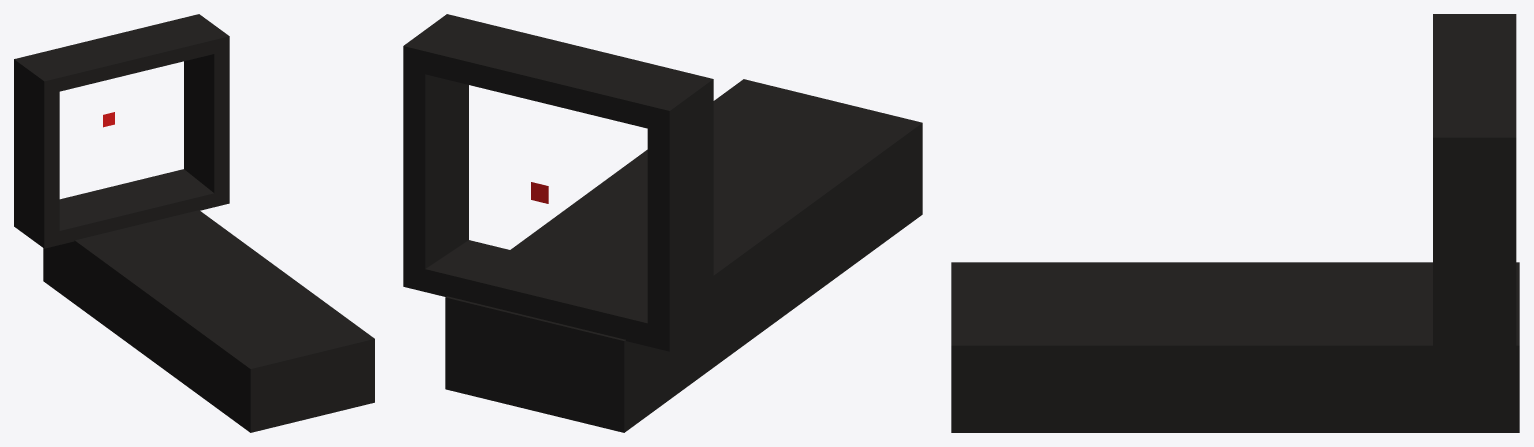
File: Sight_LaserDot.FBX
3 renders of one model, left to right at view 1: azimuth 30°, elevation 25°; view 2: azimuth 150°, elevation 25°; view 3: azimuth 270°, elevation 25°, orthographic. The views are drawn at different scales.
Visible parts, largest first — view 1: Sight_LaserDot; view 2: Sight_LaserDot; view 3: Sight_LaserDot.
Part boxes in pixels (bbox=[...]): Sight_LaserDot: bbox=[14, 14, 374, 432]; Sight_LaserDot: bbox=[403, 14, 922, 432]; Sight_LaserDot: bbox=[951, 14, 1519, 432].
Bounding box in the file's own units: 12.11 × 23.49 × 14.39.
